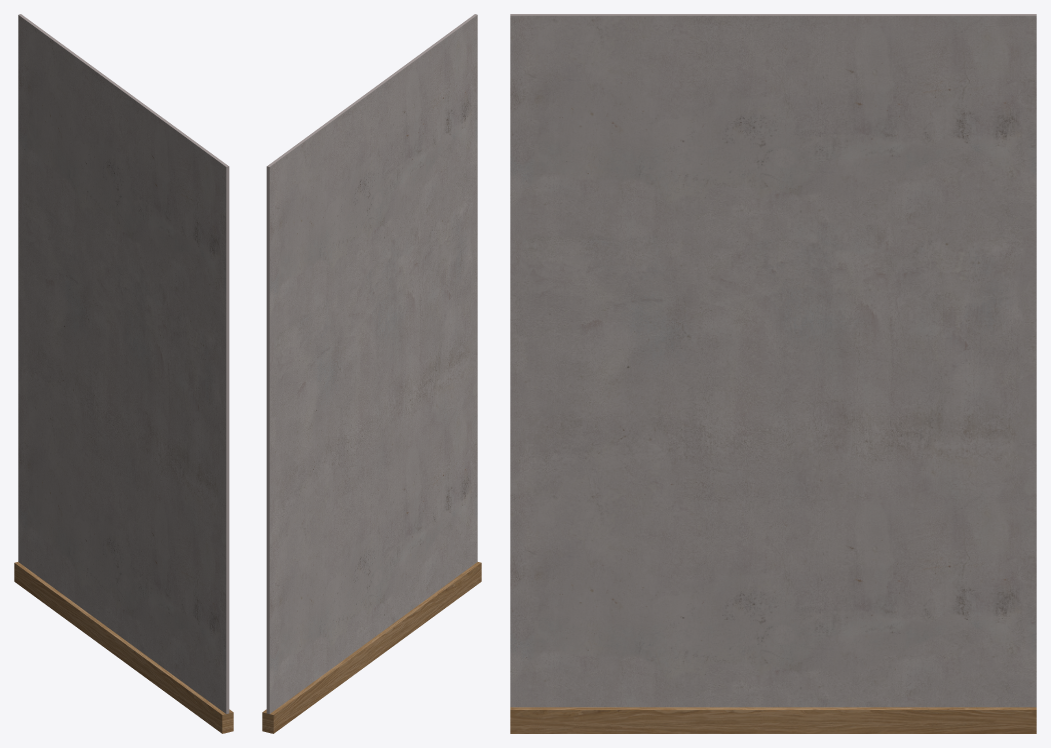
Rendered from SM_Wall_Blocking.fbx.
3 renders of one model, left to right at view 1: azimuth 30°, elevation 25°; view 2: azimuth 150°, elevation 25°; view 3: azimuth 270°, elevation 25°, orthographic. The views are drawn at different scales.
Parts seen in each view (by area): view 1: SM_Wall_Blocking; view 2: SM_Wall_Blocking; view 3: SM_Wall_Blocking.
Boxes of the visible parts, x1,y1,x2,y2 form: SM_Wall_Blocking: (14, 14, 233, 733); SM_Wall_Blocking: (262, 14, 481, 733); SM_Wall_Blocking: (510, 14, 1036, 733).
Bounding box in the file's own units: 6.23 × 300 × 200.
